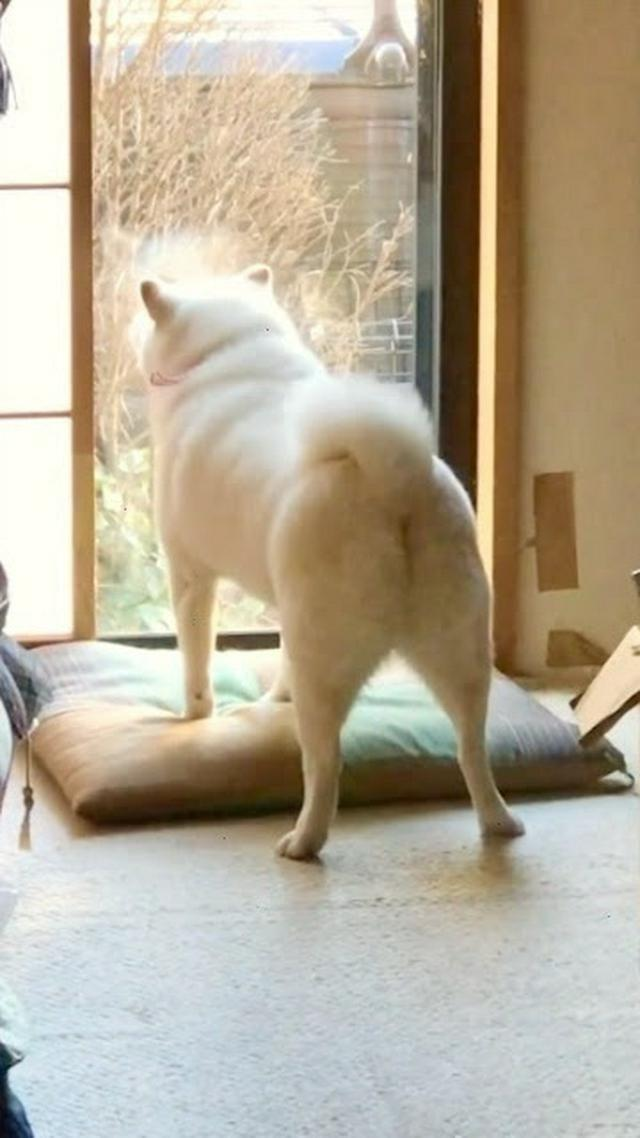adult_dog: (131, 259, 525, 863)
